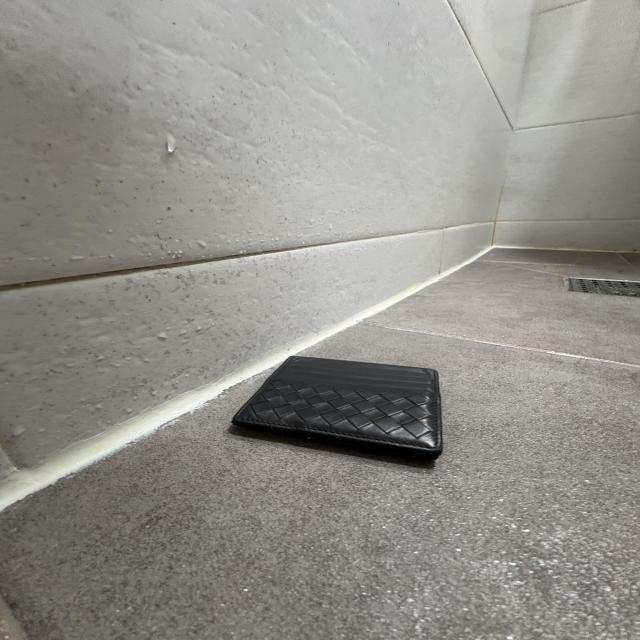wallet: (227, 354, 446, 472)
